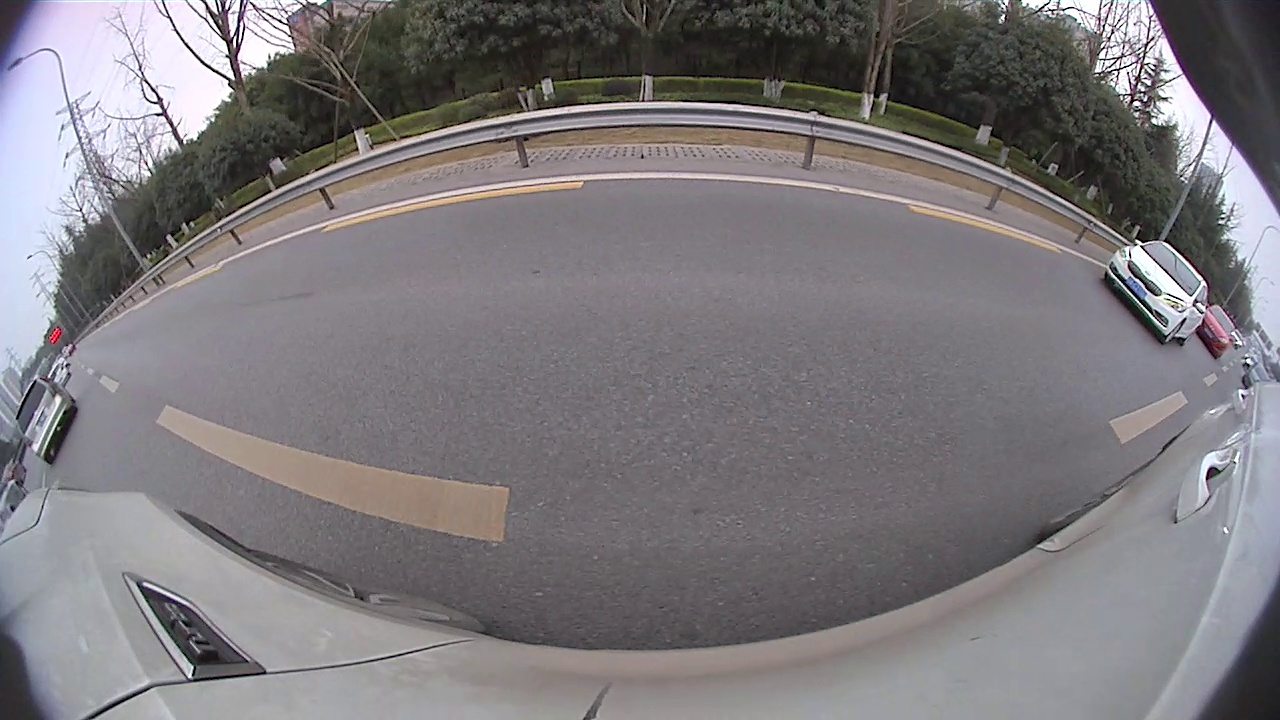car: (1, 224, 301, 484), (511, 126, 625, 204), (403, 159, 498, 211), (645, 139, 682, 179)
front: (197, 273, 279, 364), (487, 176, 496, 193)
rear: (587, 166, 603, 199), (450, 185, 465, 202)
